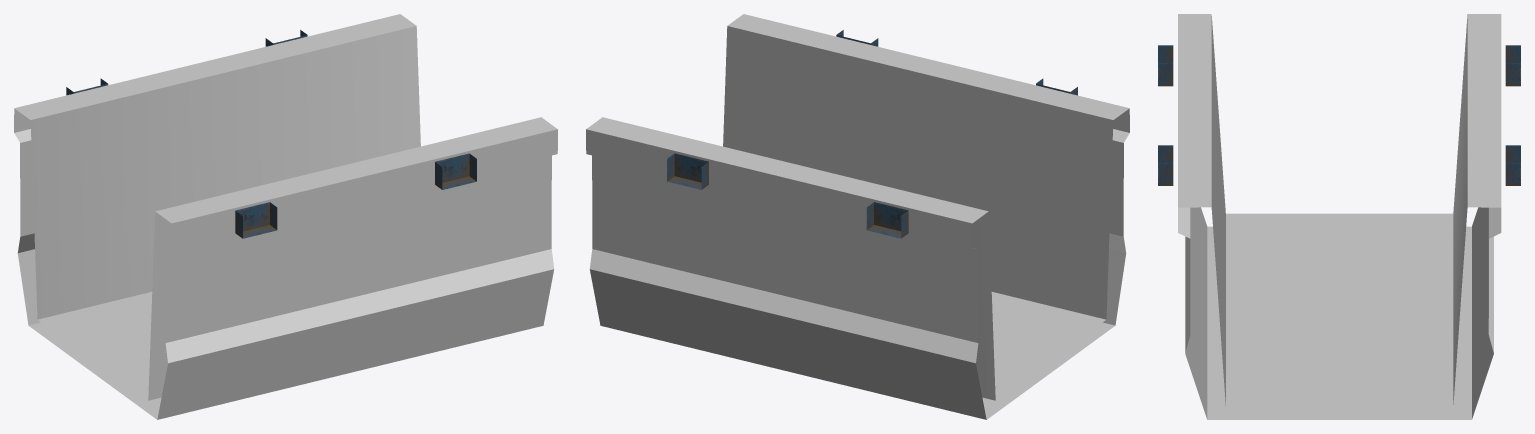
File: Concrete_StoneCatchTank_01a_snaps005.fbx
3 views of the same model, side by side, from view 1: azimuth 30°, elevation 25°; view 2: azimuth 150°, elevation 25°; view 3: azimuth 270°, elevation 25° (orthographic). The views are drawn at different scales.
Parts seen in each view (by area): view 1: Concrete_StoneCatchTank_01a_snaps005_LOD4; view 2: Concrete_StoneCatchTank_01a_snaps005_LOD4; view 3: Concrete_StoneCatchTank_01a_snaps005_LOD4.
Part boxes in pixels (x1,y1,x2,y2): Concrete_StoneCatchTank_01a_snaps005_LOD4: (14,14,557,419); Concrete_StoneCatchTank_01a_snaps005_LOD4: (586,14,1129,419); Concrete_StoneCatchTank_01a_snaps005_LOD4: (1158,14,1520,419).
Size of the model in its own units: 4.5 by 2.31 by 3.57.
